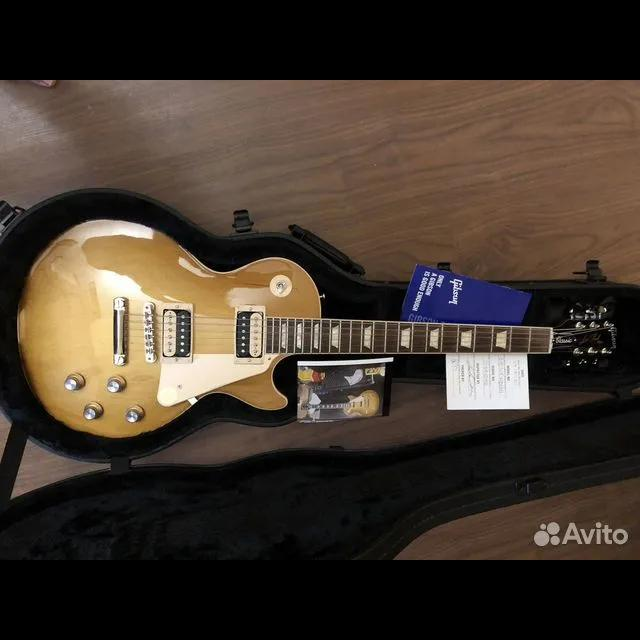Electric-Guitar: (16, 220, 618, 438)
